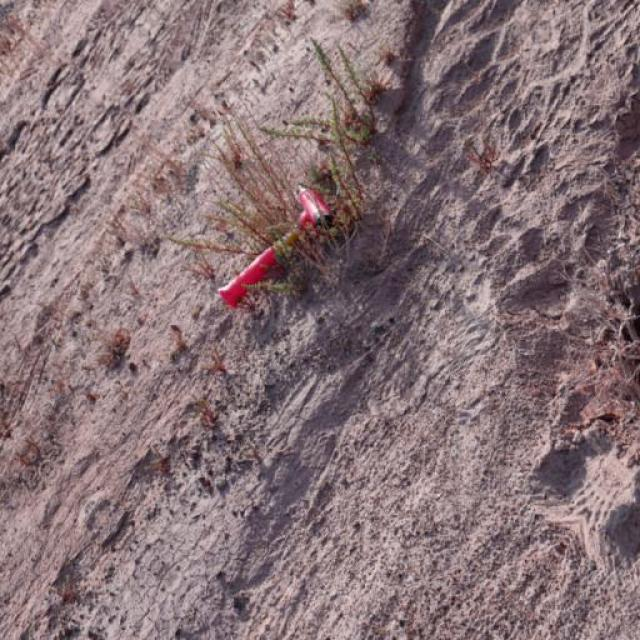mallet: (218, 184, 336, 308)
